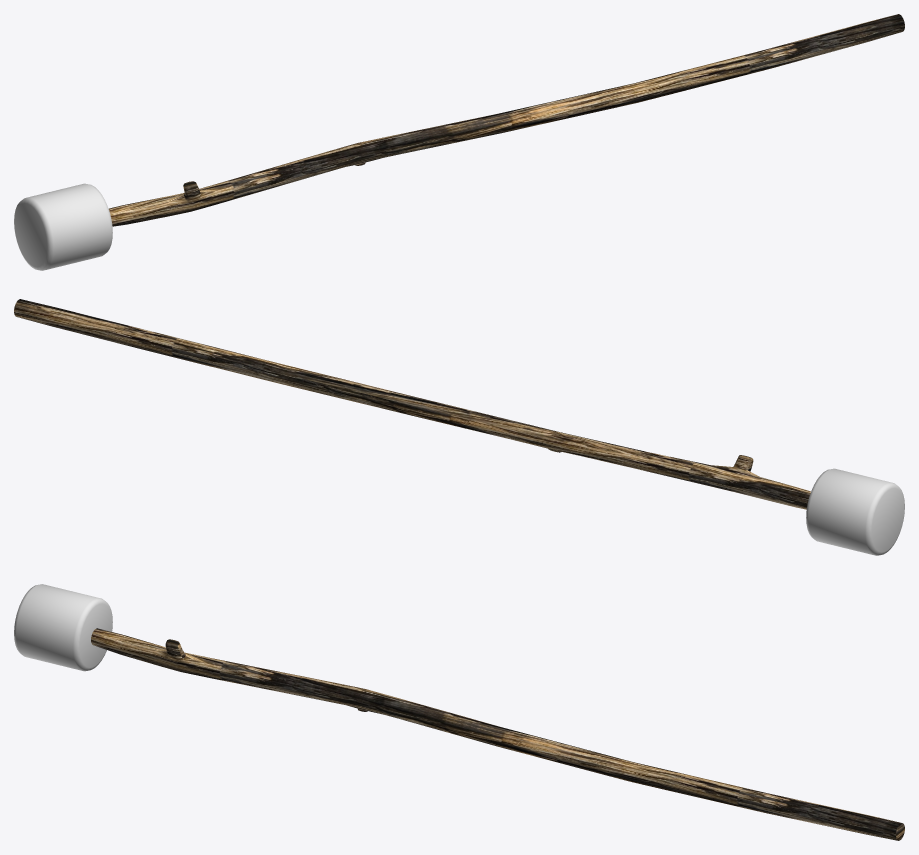
Rendered from stic2.fbx.
3 views of the same model, one above another, from view 1: azimuth 30°, elevation 25°; view 2: azimuth 150°, elevation 25°; view 3: azimuth 330°, elevation 25° (orthographic).
Parts seen in each view (by area): view 1: Cylinder; view 2: Cylinder; view 3: Cylinder.
Boxes of the visible parts, x1,y1,x2,y2 form: Cylinder: (14, 14, 904, 270); Cylinder: (14, 299, 904, 555); Cylinder: (14, 584, 904, 840).
Bounding box in the file's own units: 213 × 15.96 × 15.96.
Materials: 2 (2 with a texture image).
